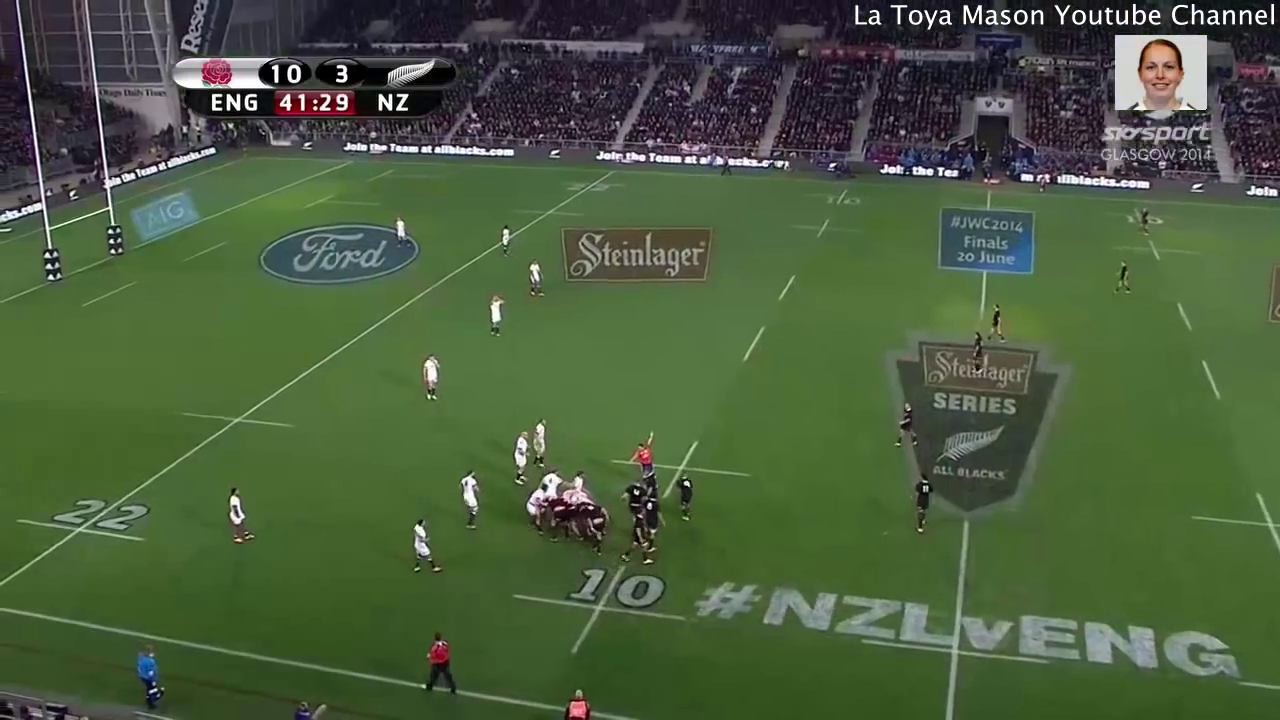10_metre: (510, 558, 691, 658), (605, 435, 754, 508), (1190, 484, 1280, 559), (788, 215, 870, 241), (802, 185, 882, 210)
player: (622, 428, 669, 490), (620, 499, 661, 569), (476, 285, 521, 347), (454, 462, 488, 539), (404, 508, 440, 580), (580, 502, 621, 563), (221, 481, 257, 550), (908, 469, 944, 536), (885, 395, 922, 458), (666, 465, 702, 527), (416, 348, 453, 406), (960, 325, 997, 383), (507, 424, 535, 497), (982, 291, 1016, 350), (637, 489, 667, 551), (526, 408, 553, 476), (1108, 249, 1138, 296), (620, 476, 649, 519), (524, 253, 548, 301), (390, 212, 413, 256), (493, 221, 514, 269), (526, 484, 548, 523), (539, 465, 562, 502), (568, 461, 595, 491), (1134, 201, 1156, 235)
post: (5, 1, 127, 285)
